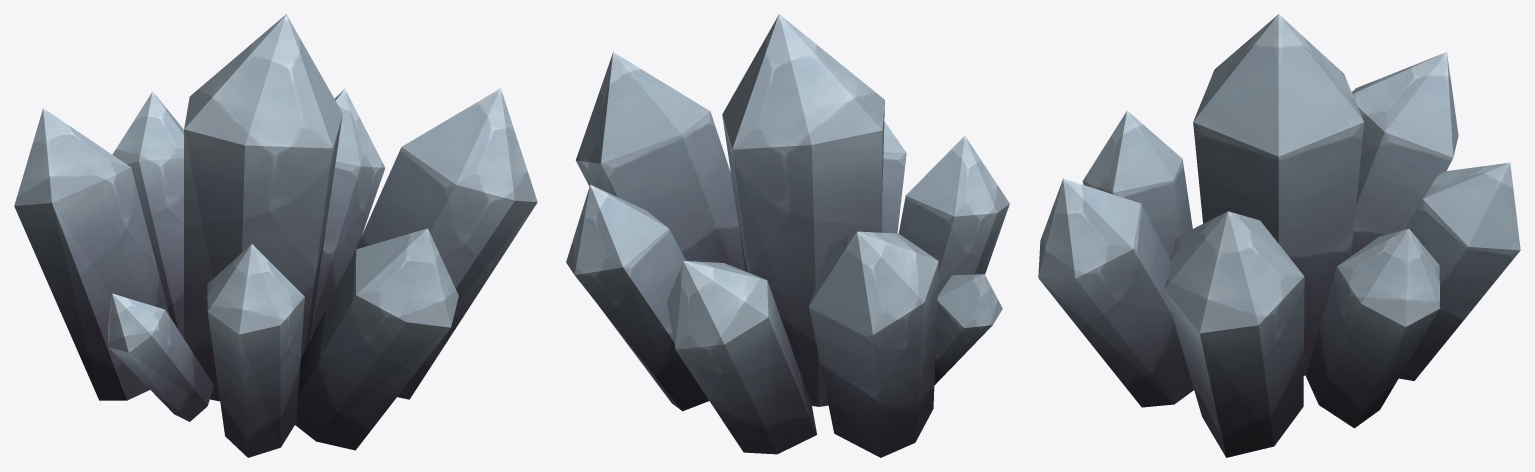
The model's file is caiji_yk.FBX.
3 renders of one model, left to right at view 1: azimuth 30°, elevation 25°; view 2: azimuth 150°, elevation 25°; view 3: azimuth 270°, elevation 25°, orthographic.
Parts seen in each view (by area): view 1: caiji_yk; view 2: caiji_yk; view 3: caiji_yk.
Part boxes in pixels (x1=…): caiji_yk: x1=14, y1=14, x2=537, y2=457; caiji_yk: x1=566, y1=14, x2=1009, y2=457; caiji_yk: x1=1038, y1=14, x2=1520, y2=457.
Bounding box in the file's own units: 37.59 × 36.86 × 33.37.
